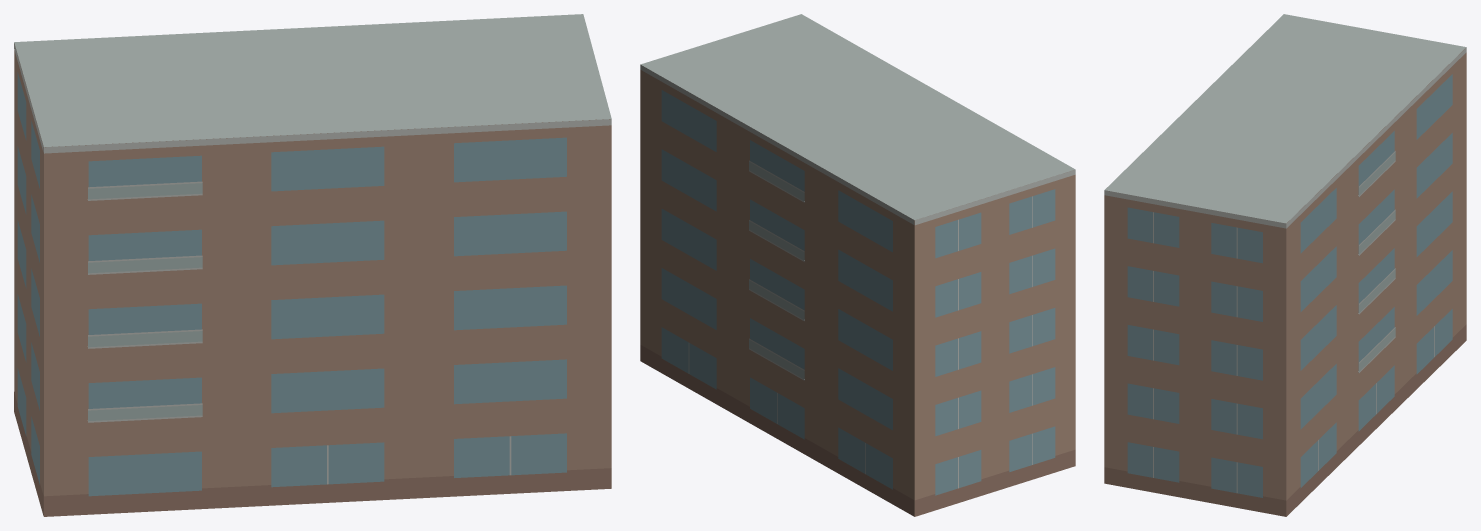
The model's file is survey-upis-32531949.glb.
3 renders of one model, left to right at view 1: azimuth 30°, elevation 25°; view 2: azimuth 150°, elevation 25°; view 3: azimuth 270°, elevation 25°, orthographic. The views are drawn at different scales.
Visible parts, largest first — view 1: survey-upis-32531949.tmp; view 2: survey-upis-32531949.tmp; view 3: survey-upis-32531949.tmp.
Boxes of the visible parts, x1=… form: survey-upis-32531949.tmp: x1=14, y1=14, x2=611, y2=516; survey-upis-32531949.tmp: x1=640, y1=14, x2=1075, y2=516; survey-upis-32531949.tmp: x1=1104, y1=14, x2=1466, y2=516.
Bounding box in the file's own units: 21.68 × 14.15 × 15.84.
